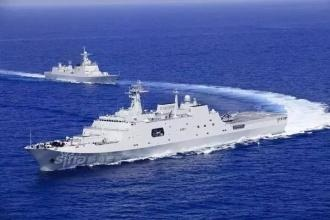warship: (26, 89, 295, 170), (33, 42, 138, 82)
